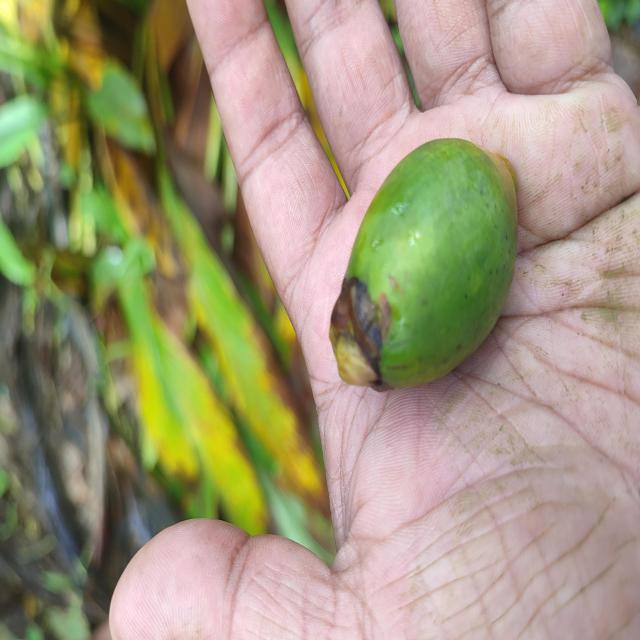damaged: (330, 138, 519, 391)
